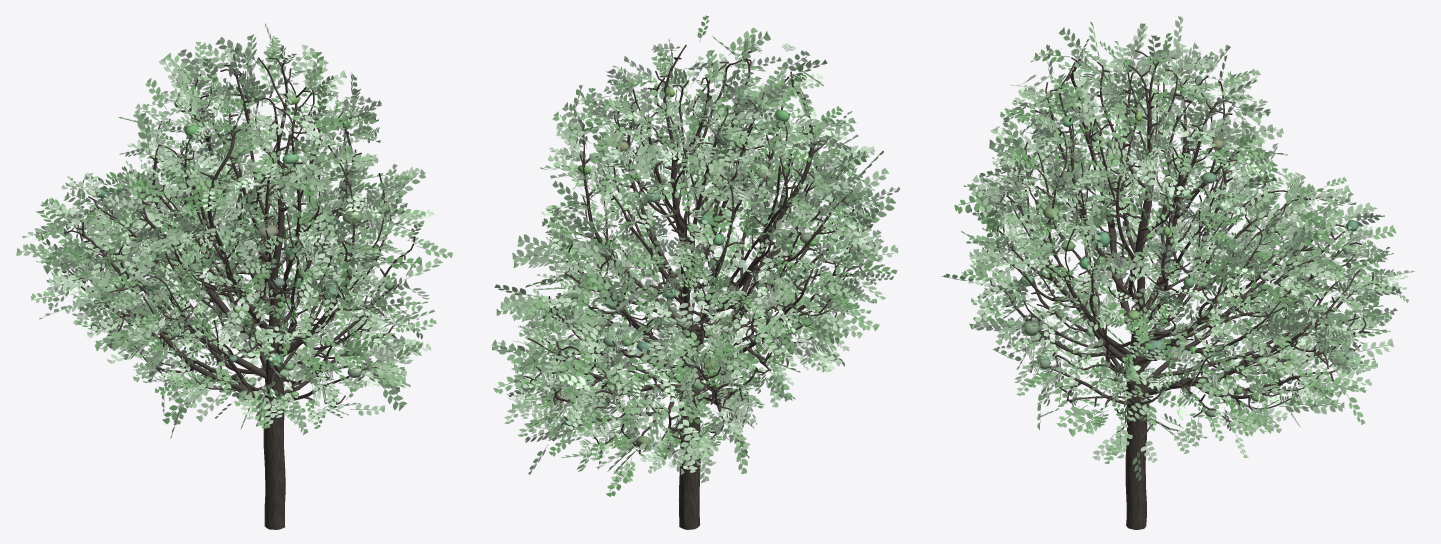
The model's file is tree_22_camphor.glb.
3 views of the same model, side by side, from view 1: azimuth 30°, elevation 25°; view 2: azimuth 150°, elevation 25°; view 3: azimuth 270°, elevation 25° (orthographic). The views are drawn at different scales.
Parts seen in each view (by area): view 1: tree_22_camphor.leaves, tree_22_camphor.trunk_branches, tree_22_camphor.foliage_volume; view 2: tree_22_camphor.leaves, tree_22_camphor.trunk_branches, tree_22_camphor.foliage_volume; view 3: tree_22_camphor.leaves, tree_22_camphor.trunk_branches, tree_22_camphor.foliage_volume.
Boxes of the visible parts, left/top/right/bottom form: tree_22_camphor.leaves: left=16, top=23, right=452, bottom=438; tree_22_camphor.trunk_branches: left=58, top=57, right=415, bottom=529; tree_22_camphor.foliage_volume: left=95, top=90, right=394, bottom=400; tree_22_camphor.leaves: left=492, top=15, right=900, bottom=496; tree_22_camphor.trunk_branches: left=524, top=45, right=862, bottom=529; tree_22_camphor.foliage_volume: left=563, top=87, right=817, bottom=448; tree_22_camphor.leaves: left=941, top=16, right=1414, bottom=480; tree_22_camphor.trunk_branches: left=990, top=49, right=1379, bottom=529; tree_22_camphor.foliage_volume: left=1007, top=59, right=1358, bottom=417.
Bounding box in the file's own units: 9.28 × 13.17 × 11.93.
3 materials, 2 textured.
